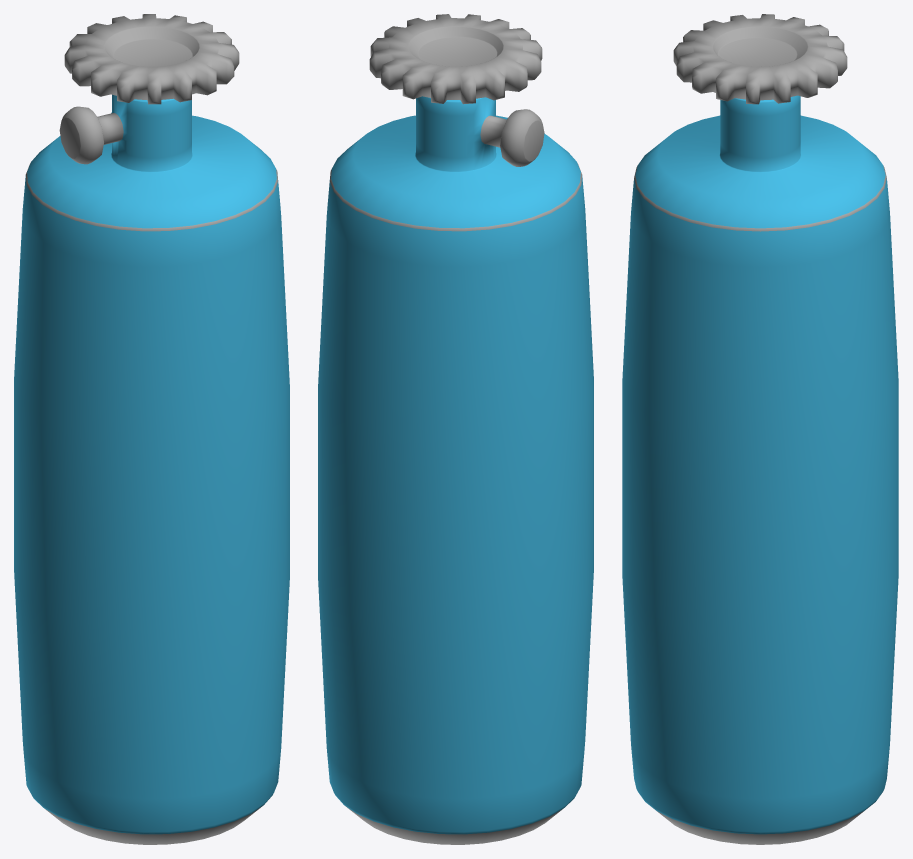
File: NossPickUp.fbx
3 renders of one model, left to right at view 1: azimuth 30°, elevation 25°; view 2: azimuth 150°, elevation 25°; view 3: azimuth 270°, elevation 25°, orthographic.
Visible parts, largest first — view 1: Nos pick Up; view 2: Nos pick Up; view 3: Nos pick Up.
Boxes of the visible parts, <box> form: Nos pick Up: <box>14,14,289,844</box>; Nos pick Up: <box>318,14,593,844</box>; Nos pick Up: <box>622,14,898,844</box>.
Bounding box in the file's own units: 65.72 × 198 × 65.72.
